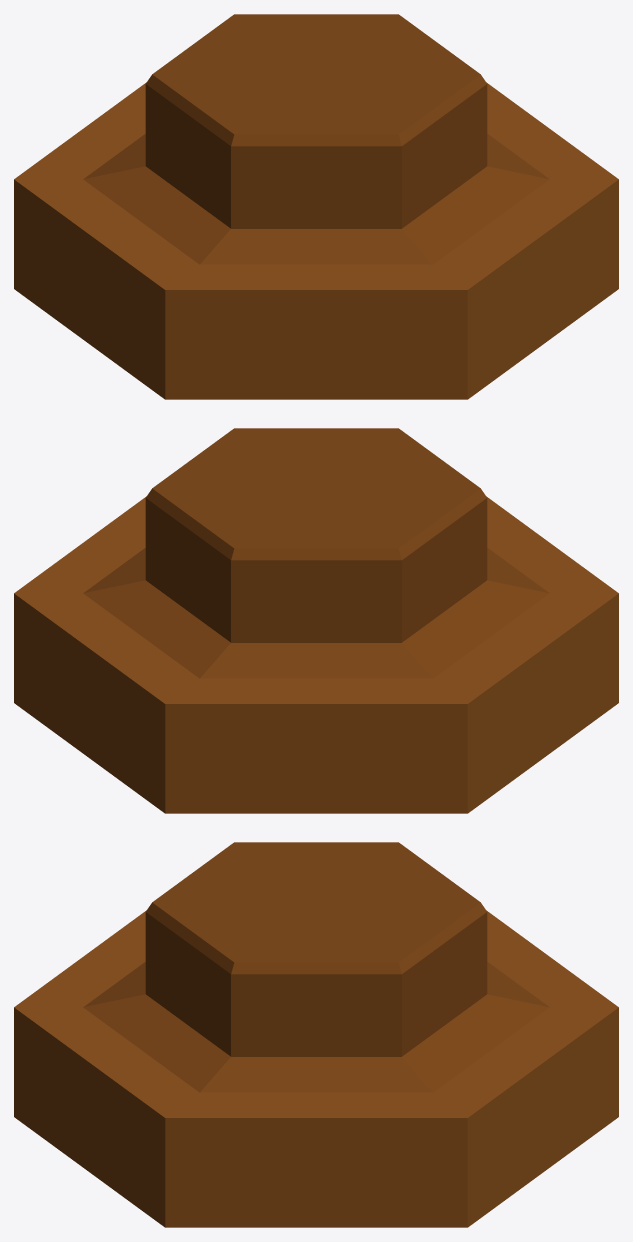
File: TileHex_11.fbx
The picture shows the model from 3 angles, top to bottom: view 1: azimuth 30°, elevation 25°; view 2: azimuth 150°, elevation 25°; view 3: azimuth 270°, elevation 25°; orthographic projection.
Parts seen in each view (by area): view 1: TileHex_11; view 2: TileHex_11; view 3: TileHex_11.
Part boxes in pixels (x1,y1,x2,y2): TileHex_11: (14,14,618,399); TileHex_11: (14,428,618,813); TileHex_11: (14,842,618,1227).
Size of the model in its own units: 433 by 196 by 500.
